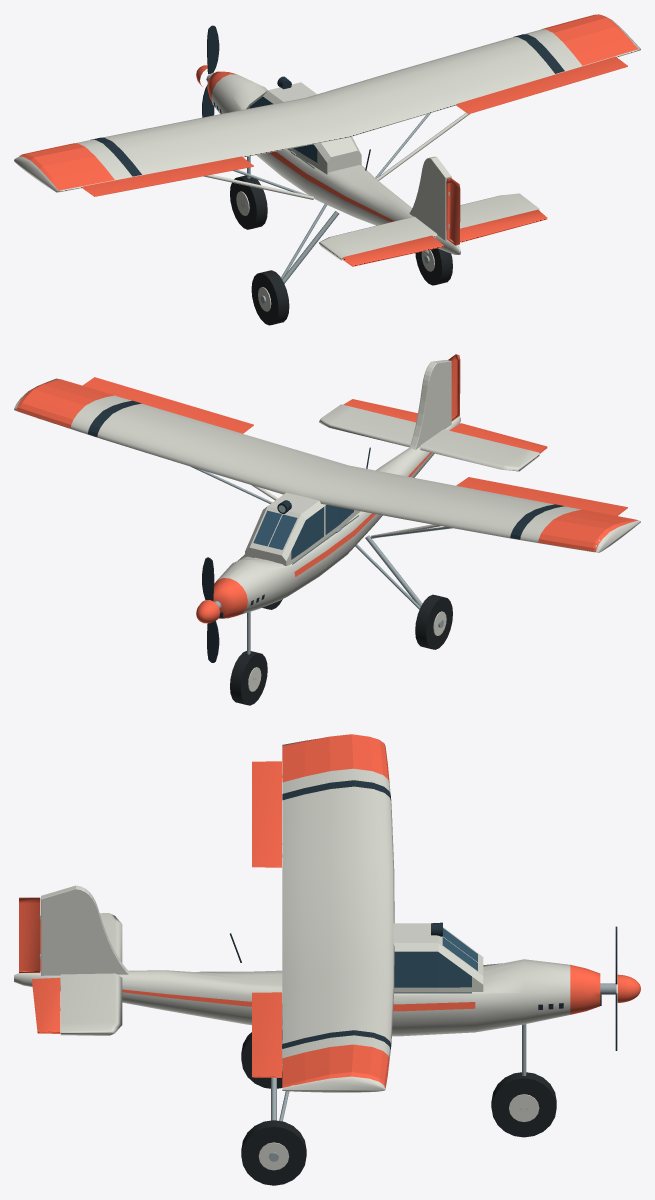
Rendered from rift-t15.glb.
3 renders of one model, top to bottom at view 1: azimuth 30°, elevation 25°; view 2: azimuth 150°, elevation 25°; view 3: azimuth 270°, elevation 25°, orthographic. The views are drawn at different scales.
Visible parts, largest first — view 1: T15_static_shell_0, T15_static_shell_1, T15_aileron (×2), T15_static_shell_6, T15_elevator (×2), T15_static_shell_3, T15_static_shell_2, T15_rudder, T15_shaped_prop_blade; view 2: T15_static_shell_0, T15_static_shell_1, T15_aileron (×2), T15_static_shell_6, T15_static_shell_4, T15_elevator (×2), T15_static_shell_3, T15_static_shell_2, T15_rudder; view 3: T15_static_shell_0, T15_static_shell_1, T15_static_shell_6, T15_aileron (×2), T15_static_shell_4, T15_static_shell_2, T15_rudder, T15_elevator, T15_static_shell_3.
Part boxes in pixels (x1,y1,x2,y2): T15_static_shell_0: [14, 16, 640, 311]; T15_static_shell_1: [19, 14, 638, 221]; T15_aileron (×2): [82, 56, 627, 196]; T15_static_shell_6: [230, 175, 452, 325]; T15_elevator (×2): [343, 209, 547, 266]; T15_static_shell_3: [206, 74, 430, 303]; T15_static_shell_2: [90, 34, 564, 176]; T15_rudder: [446, 178, 460, 245]; T15_shaped_prop_blade: [207, 25, 219, 74]; T15_static_shell_0: [14, 360, 640, 691]; T15_static_shell_1: [16, 379, 637, 623]; T15_aileron (×2): [83, 377, 627, 515]; T15_static_shell_6: [230, 594, 452, 705]; T15_static_shell_4: [253, 505, 353, 559]; T15_elevator (×2): [343, 399, 547, 453]; T15_static_shell_3: [190, 466, 452, 682]; T15_static_shell_2: [88, 400, 564, 618]; T15_rudder: [448, 354, 460, 421]; T15_static_shell_0: [14, 739, 570, 1170]; T15_static_shell_1: [122, 734, 640, 1087]; T15_static_shell_6: [241, 1029, 556, 1185]; T15_aileron (×2): [252, 761, 281, 1077]; T15_static_shell_4: [394, 928, 477, 987]; T15_static_shell_2: [230, 780, 601, 1049]; T15_rudder: [19, 897, 40, 972]; T15_elevator: [32, 977, 60, 1033]; T15_static_shell_3: [269, 843, 616, 1161].
Bounding box in the file's own units: 1.5 × 0.5015 × 1.15.
